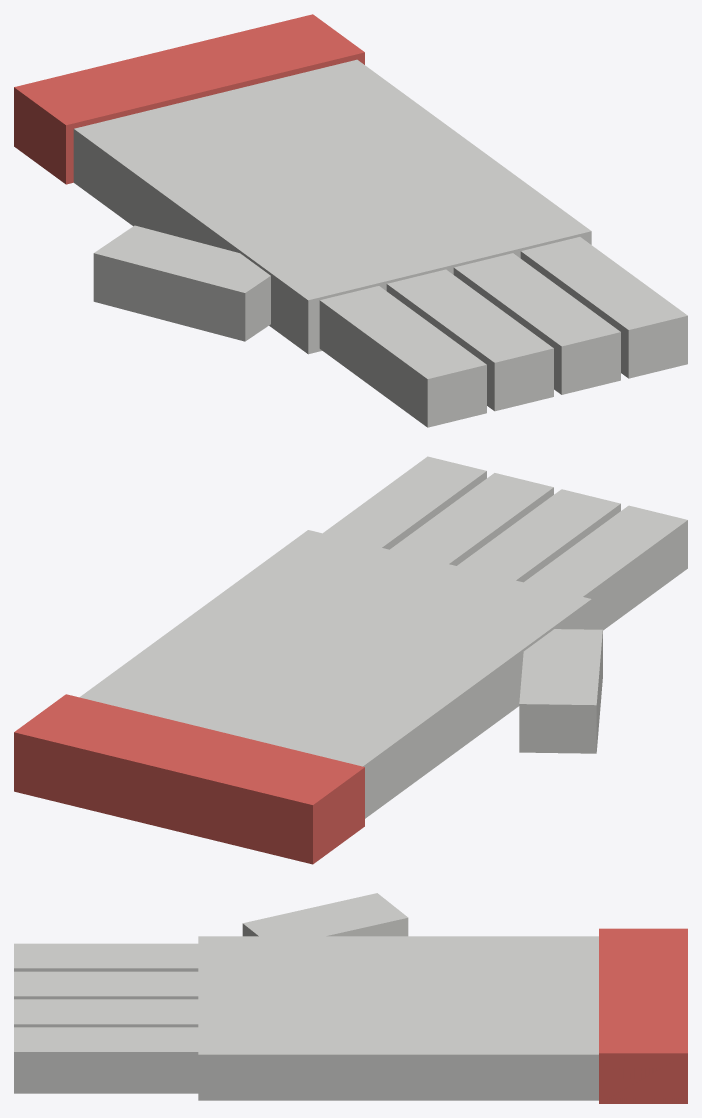
The model's file is golf-course-and-clubhouse-golf-glove-20cb680a__33487.glb.
3 views of the same model, one above another, from view 1: azimuth 30°, elevation 25°; view 2: azimuth 150°, elevation 25°; view 3: azimuth 270°, elevation 25° (orthographic). The views are drawn at different scales.
Visible parts, largest first — view 1: golf-glove; view 2: golf-glove; view 3: golf-glove.
Boxes of the visible parts, bbox=[...] form: golf-glove: bbox=[14, 14, 687, 427]; golf-glove: bbox=[14, 456, 687, 864]; golf-glove: bbox=[14, 893, 687, 1103].
Bounding box in the file's own units: 0.1556 × 0.022 × 0.265.
